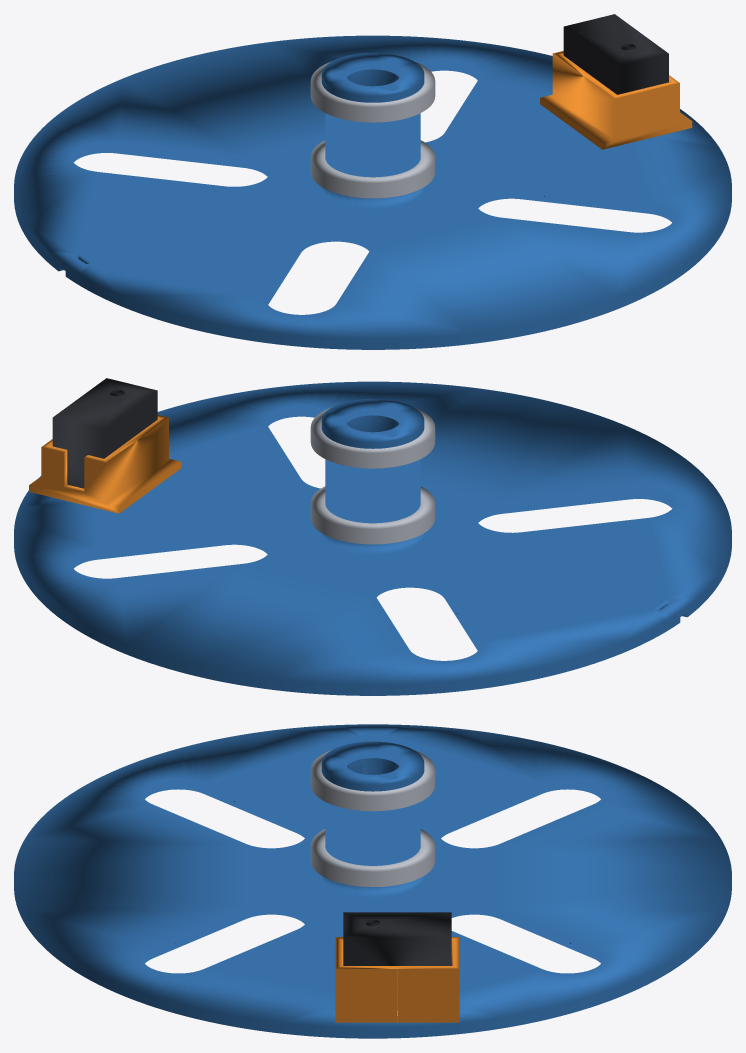
Rendered from turntable_base.obj.
3 views of the same model, one above another, from view 1: azimuth 30°, elevation 25°; view 2: azimuth 150°, elevation 25°; view 3: azimuth 270°, elevation 25° (orthographic).
Visible parts, largest first — view 1: Base_and_bearing_post, Servo_cradle_(slides_to_tension_the_belt), HX-30HM_servo_(reference), Bearing_retainer_cap, 6808-2RS_bearing_(lower), 6808-2RS_bearing_(upper); view 2: Base_and_bearing_post, Servo_cradle_(slides_to_tension_the_belt), HX-30HM_servo_(reference), Bearing_retainer_cap, 6808-2RS_bearing_(lower), 6808-2RS_bearing_(upper); view 3: Base_and_bearing_post, Servo_cradle_(slides_to_tension_the_belt), HX-30HM_servo_(reference), Bearing_retainer_cap, 6808-2RS_bearing_(lower), 6808-2RS_bearing_(upper).
Part boxes in pixels (x1,y1,x2,y2): Base_and_bearing_post: [14, 35, 731, 349]; Servo_cradle_(slides_to_tension_the_belt): [540, 51, 692, 149]; HX-30HM_servo_(reference): [563, 14, 668, 94]; Bearing_retainer_cap: [321, 52, 424, 102]; 6808-2RS_bearing_(lower): [310, 140, 435, 198]; 6808-2RS_bearing_(upper): [310, 61, 435, 122]; Base_and_bearing_post: [14, 381, 731, 695]; Servo_cradle_(slides_to_tension_the_belt): [29, 415, 181, 513]; HX-30HM_servo_(reference): [52, 378, 157, 488]; Bearing_retainer_cap: [321, 399, 424, 448]; 6808-2RS_bearing_(lower): [310, 486, 435, 544]; 6808-2RS_bearing_(upper): [310, 407, 435, 468]; Base_and_bearing_post: [14, 724, 731, 1038]; Servo_cradle_(slides_to_tension_the_belt): [335, 937, 459, 1022]; HX-30HM_servo_(reference): [343, 912, 451, 965]; Bearing_retainer_cap: [321, 741, 424, 791]; 6808-2RS_bearing_(lower): [310, 829, 435, 887]; 6808-2RS_bearing_(upper): [310, 750, 435, 811].
Bounding box in the file's own units: 0.3 × 0.057 × 0.3.
